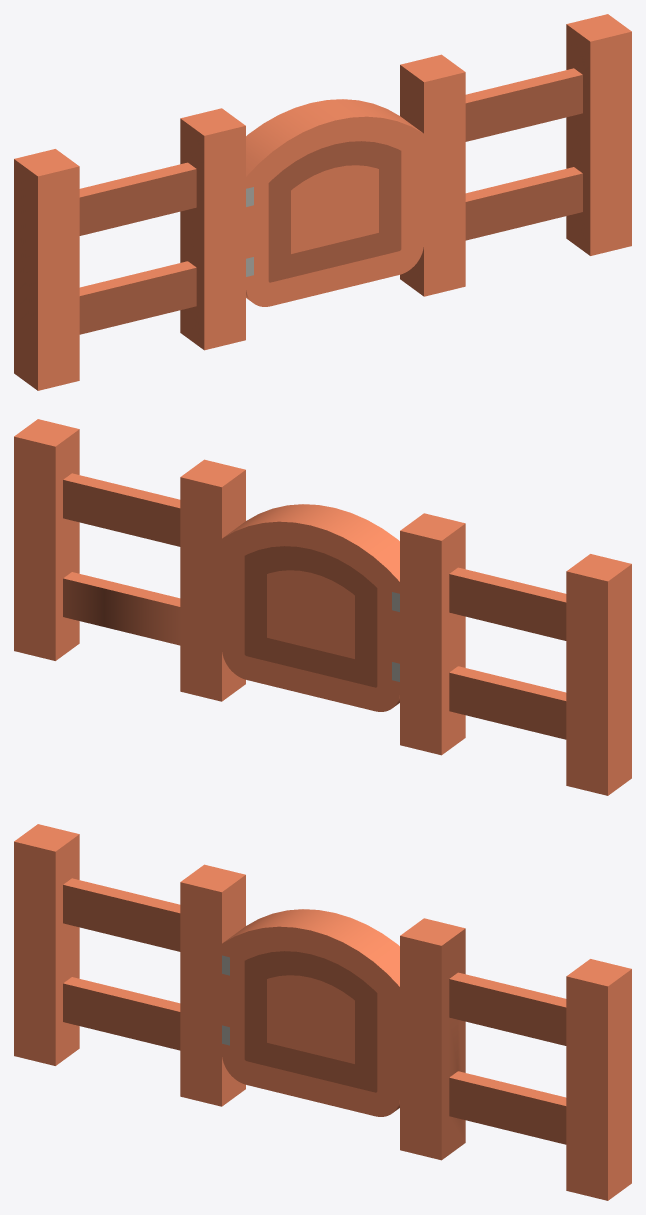
Rendered from fence_gate.glb.
The picture shows the model from 3 angles, top to bottom: view 1: azimuth 30°, elevation 25°; view 2: azimuth 150°, elevation 25°; view 3: azimuth 330°, elevation 25°; orthographic projection.
Parts seen in each view (by area): view 1: fence_gate, gate; view 2: fence_gate, gate; view 3: fence_gate, gate.
Boxes of the visible parts, bbox=[...] form: fence_gate: bbox=[14, 14, 631, 390]; gate: bbox=[246, 99, 423, 306]; fence_gate: bbox=[14, 419, 631, 795]; gate: bbox=[222, 504, 399, 711]; fence_gate: bbox=[14, 824, 631, 1200]; gate: bbox=[222, 909, 399, 1116].
Bounding box in the file's own units: 1 × 0.345 × 0.07.
